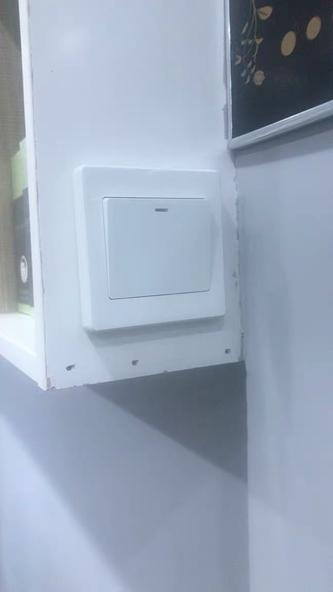switch: (100, 182, 222, 300)
